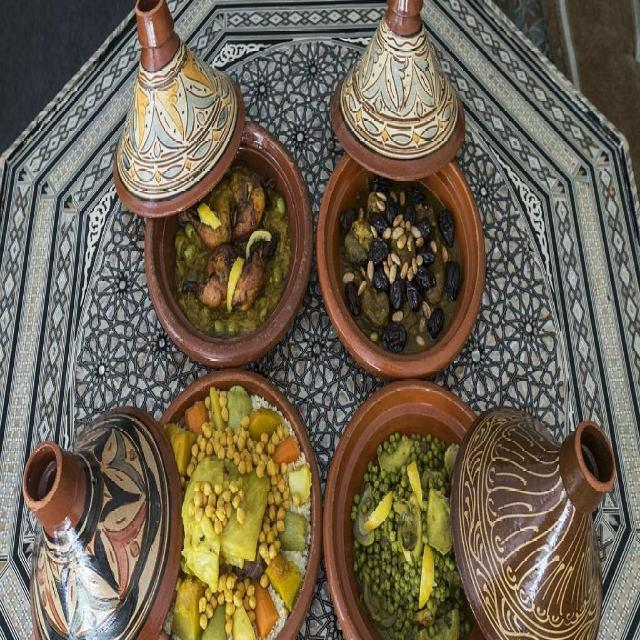Couscous: (165, 372, 324, 639)
